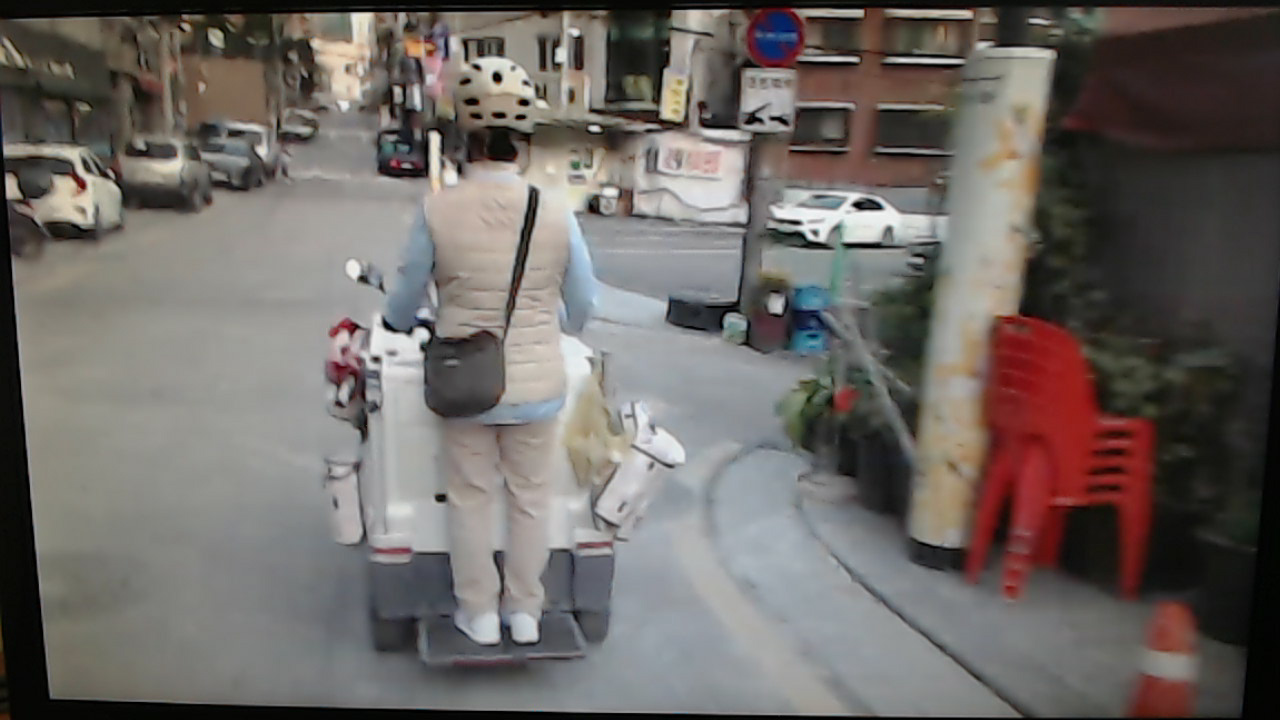Yakurut: (322, 46, 655, 687)
